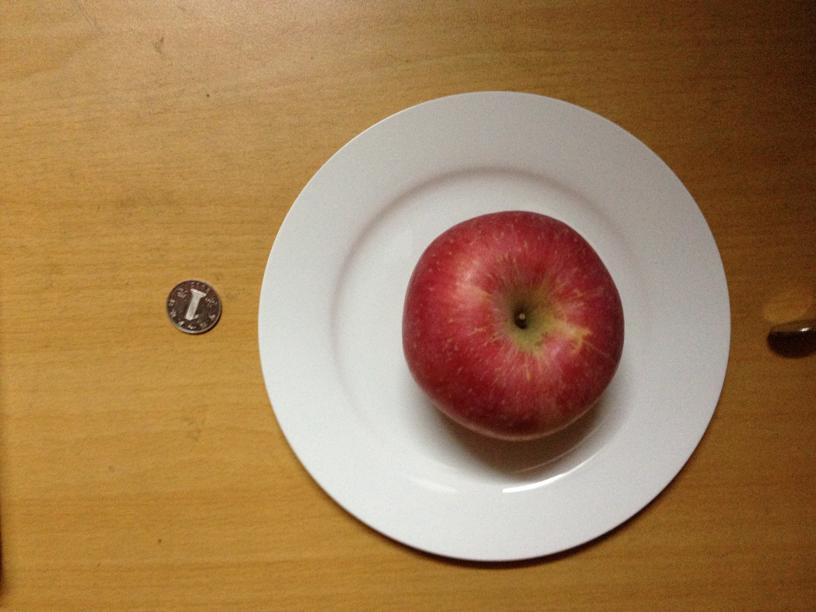apple: (398, 207, 625, 439)
coin: (165, 280, 221, 334)
